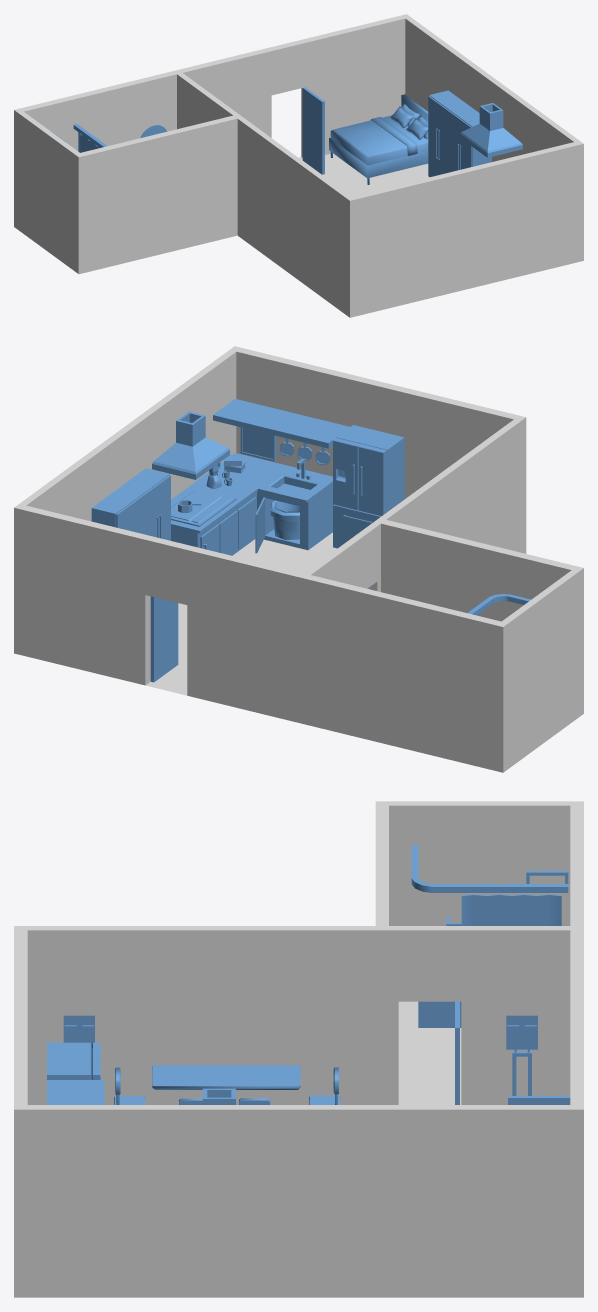
Rendered from room3.glb.
The picture shows the model from 3 angles, top to bottom: view 1: azimuth 30°, elevation 25°; view 2: azimuth 150°, elevation 25°; view 3: azimuth 270°, elevation 25°; orthographic projection. The views are drawn at different scales.
Visible parts, largest first — view 1: ROOM FINISHED 3; view 2: ROOM FINISHED 3; view 3: ROOM FINISHED 3.
Boxes of the visible parts, bbox=[...] form: ROOM FINISHED 3: bbox=[14, 14, 583, 317]; ROOM FINISHED 3: bbox=[14, 346, 583, 772]; ROOM FINISHED 3: bbox=[14, 801, 583, 1297].
Size of the model in its own units: 8.77 by 2.57 by 6.86.
